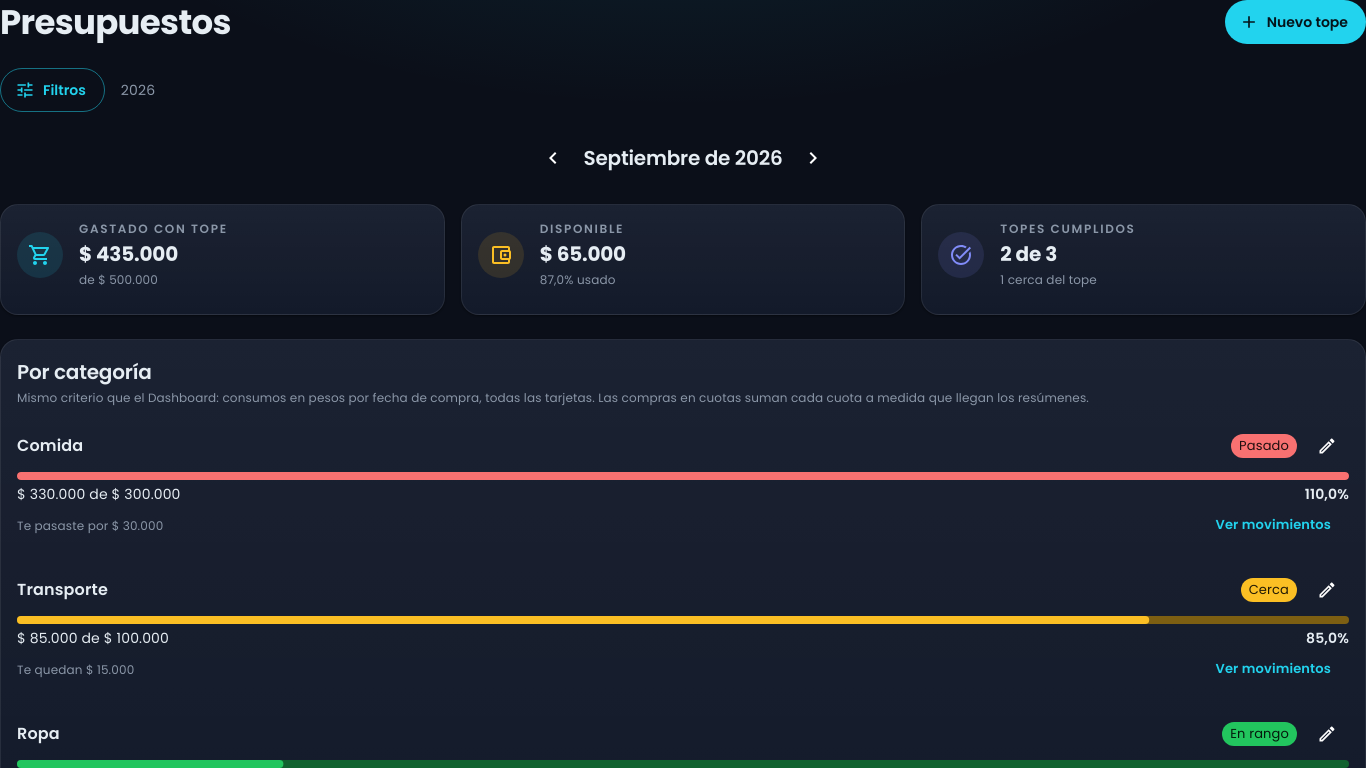
Test: BudgetsPage en mobile › «Nuevo tope» abre la hoja desde abajo
The width and height of the screenshot is (1366, 768).
Click the button "Nuevo tope": (1295, 22) [1225, 0, 1365, 44]
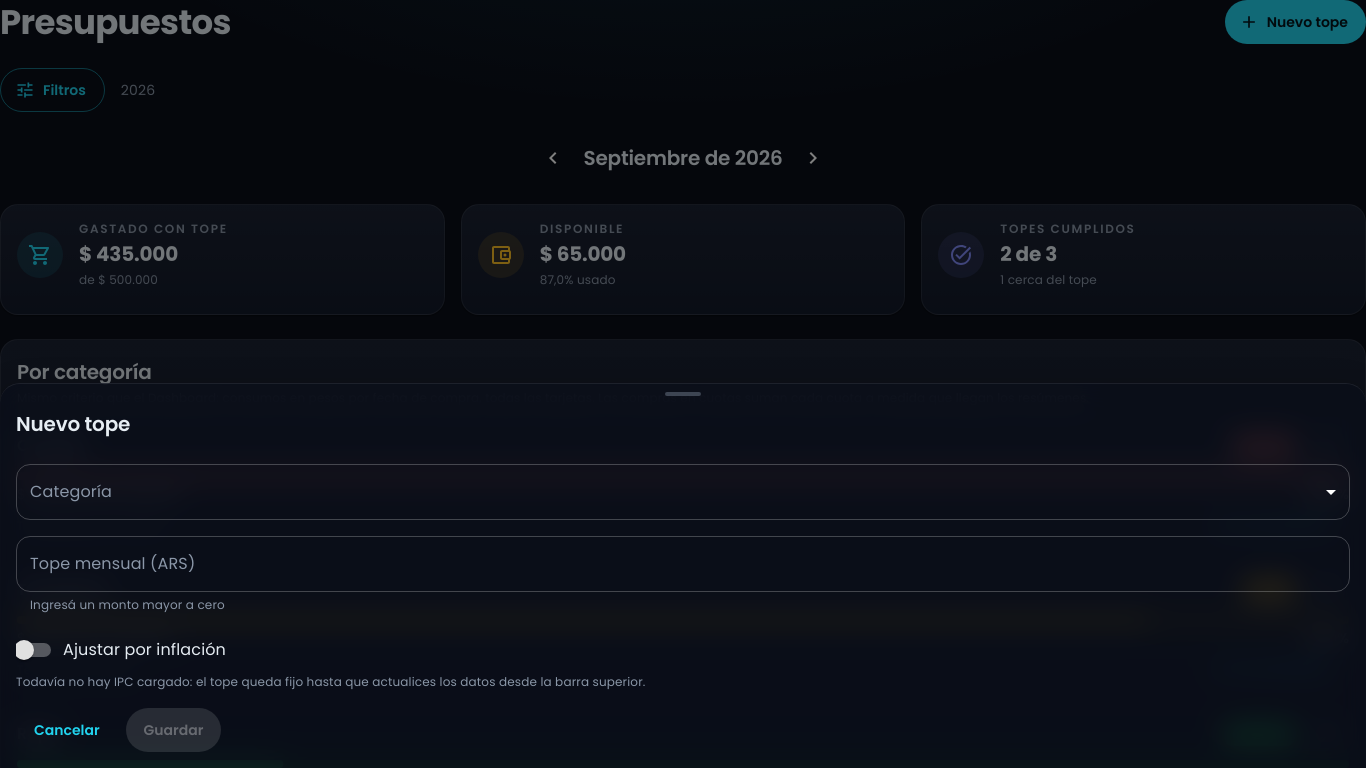
Now the element that starts with "Nuevo tope" is shown
